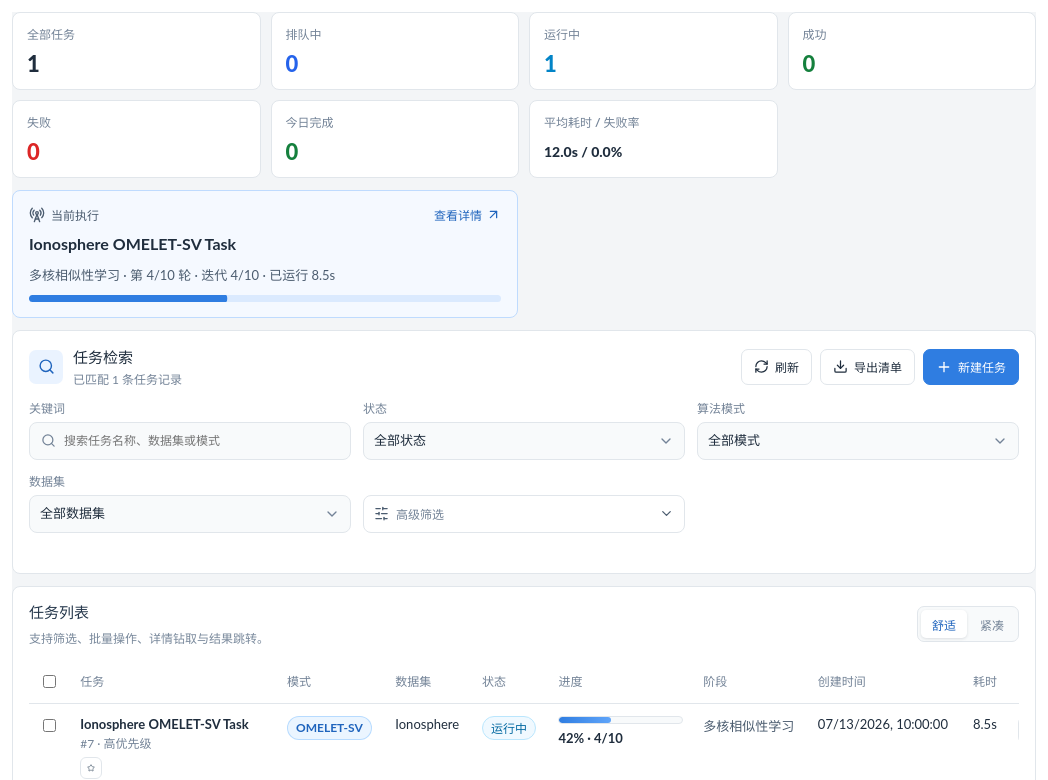
Test case: TaskCenterPage › exposes a date range and a reset action in task filters
Click the button "高级筛选": (420, 515) top-left (363, 495), bottom-right (685, 533)
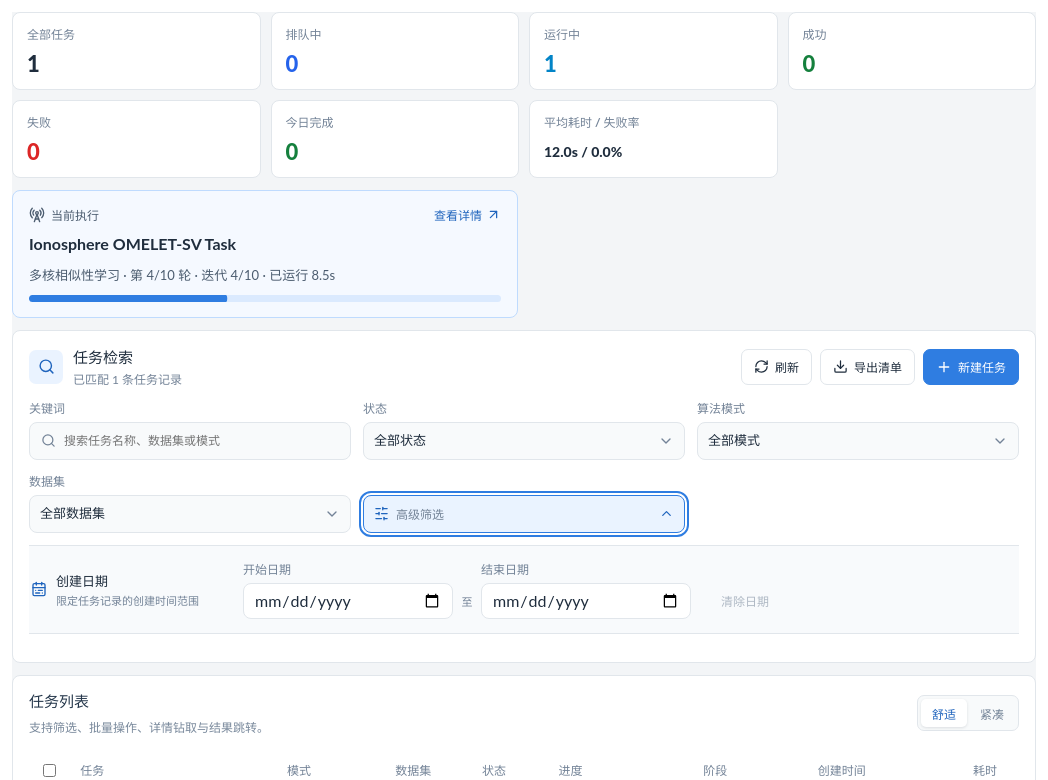
Now the date field named "创建开始日期" is enabled, box top-left (243, 583), bottom-right (453, 619)
Now the date field named "创建结束日期" is enabled, box top-left (481, 583), bottom-right (691, 619)
Now the button "高级筛选" is expanded, box top-left (363, 495), bottom-right (685, 533)
